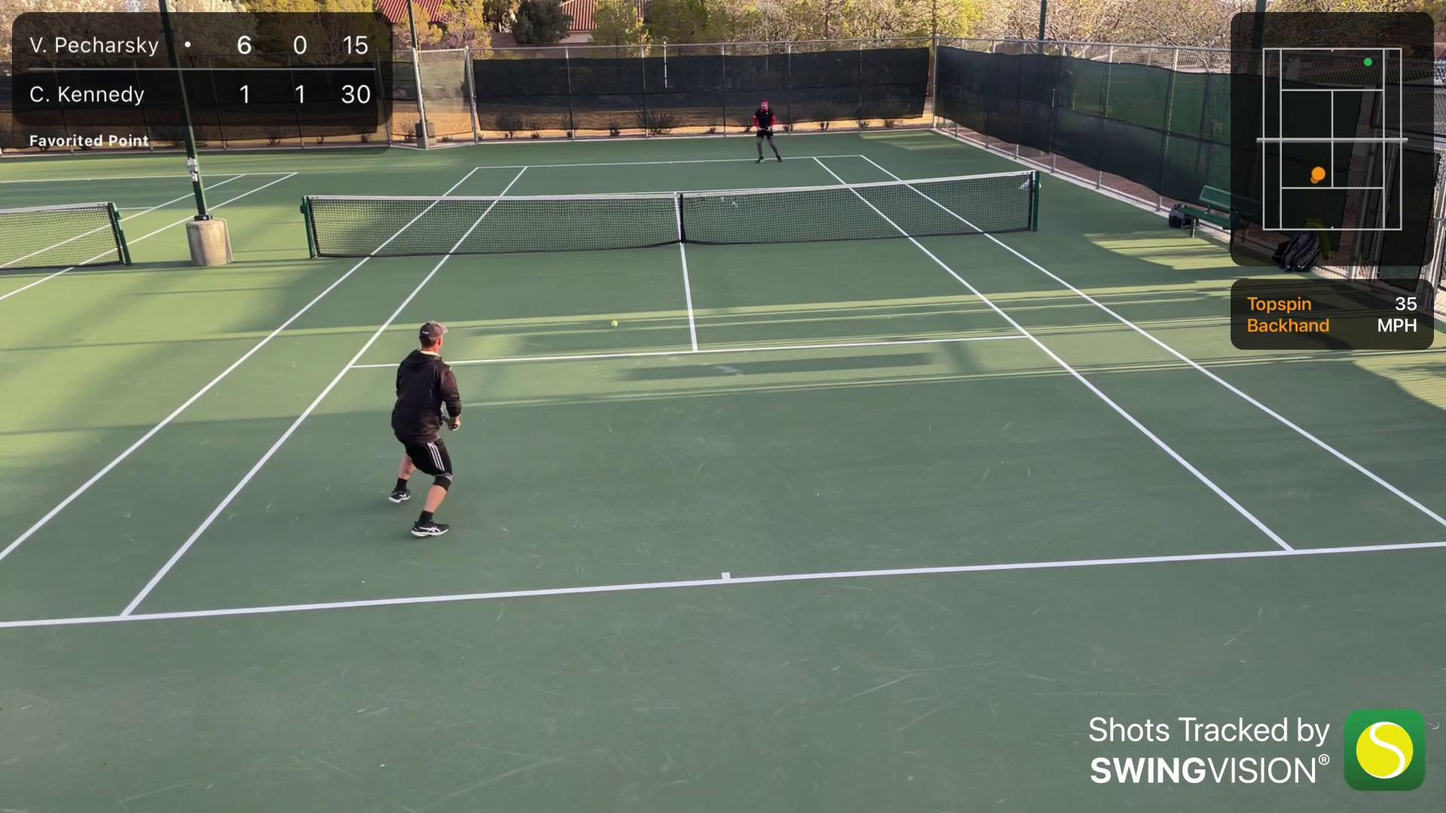ball: (613, 321, 618, 327)
